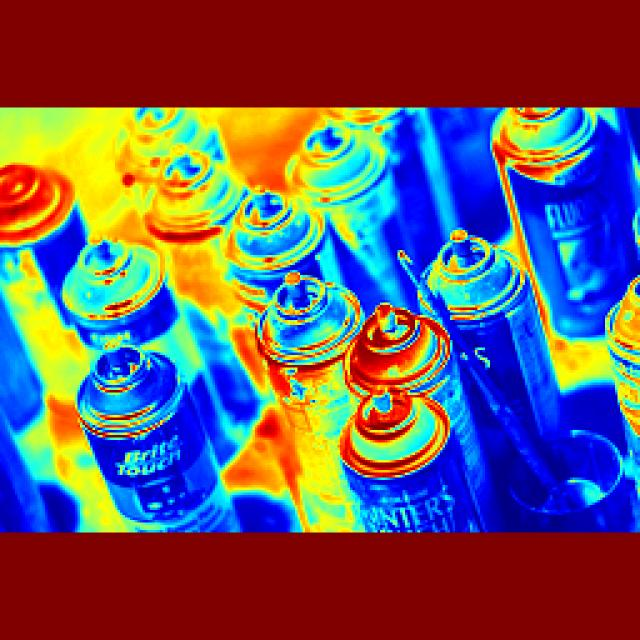Aerosol Cans: (75, 342, 222, 538), (342, 387, 480, 551), (358, 288, 492, 417), (53, 238, 184, 354), (252, 275, 360, 404)
